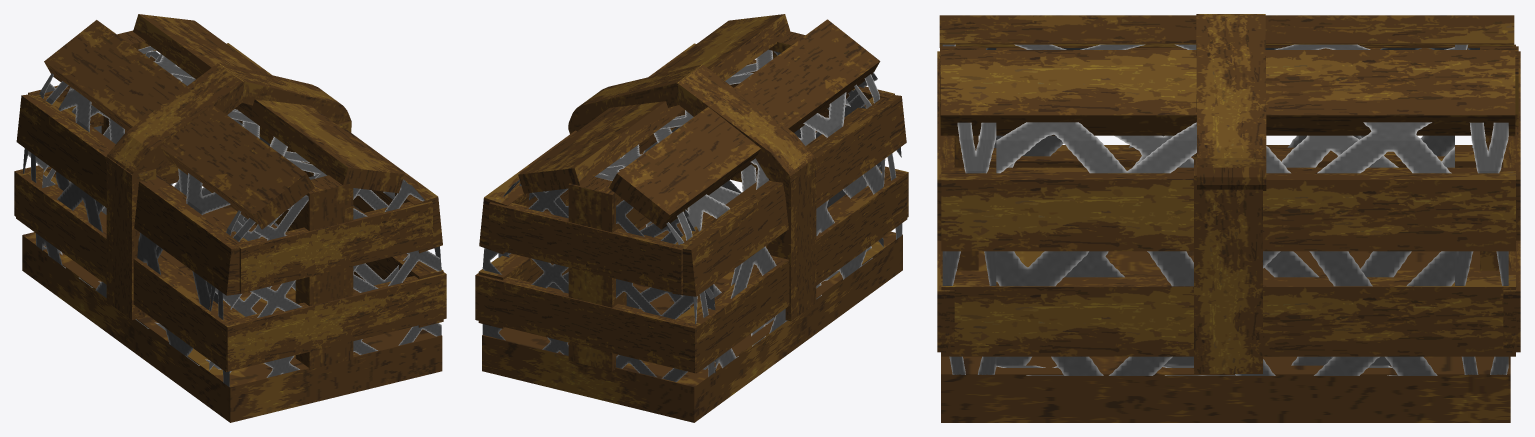
The model's file is SIRICASCUDO.obj.
The picture shows the model from 3 angles, left to right: view 1: azimuth 30°, elevation 25°; view 2: azimuth 150°, elevation 25°; view 3: azimuth 270°, elevation 25°; orthographic projection. The views are drawn at different scales.
Parts seen in each view (by area): view 1: GRADE.001; view 2: GRADE.001; view 3: GRADE.001.
Boxes of the visible parts, <box> form: GRADE.001: <box>14,14,446,422</box>; GRADE.001: <box>475,14,908,422</box>; GRADE.001: <box>937,14,1520,422</box>.
Size of the model in its own units: 2.09 by 2.23 by 3.48.
